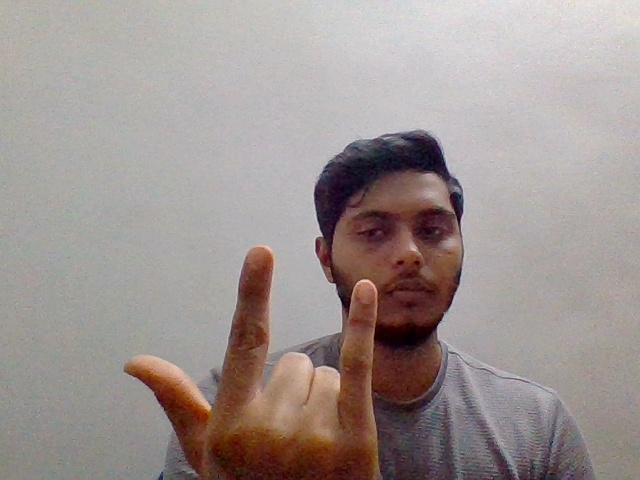I Love You: (116, 237, 389, 480)
